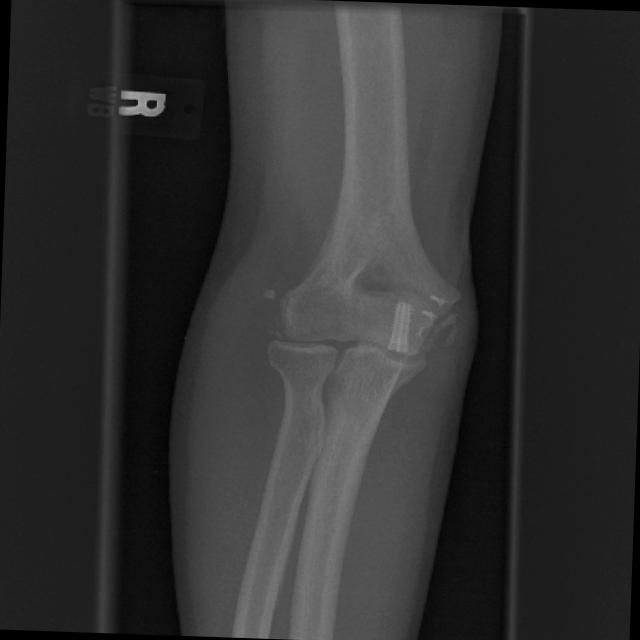elbow positive: (407, 294, 478, 365)
